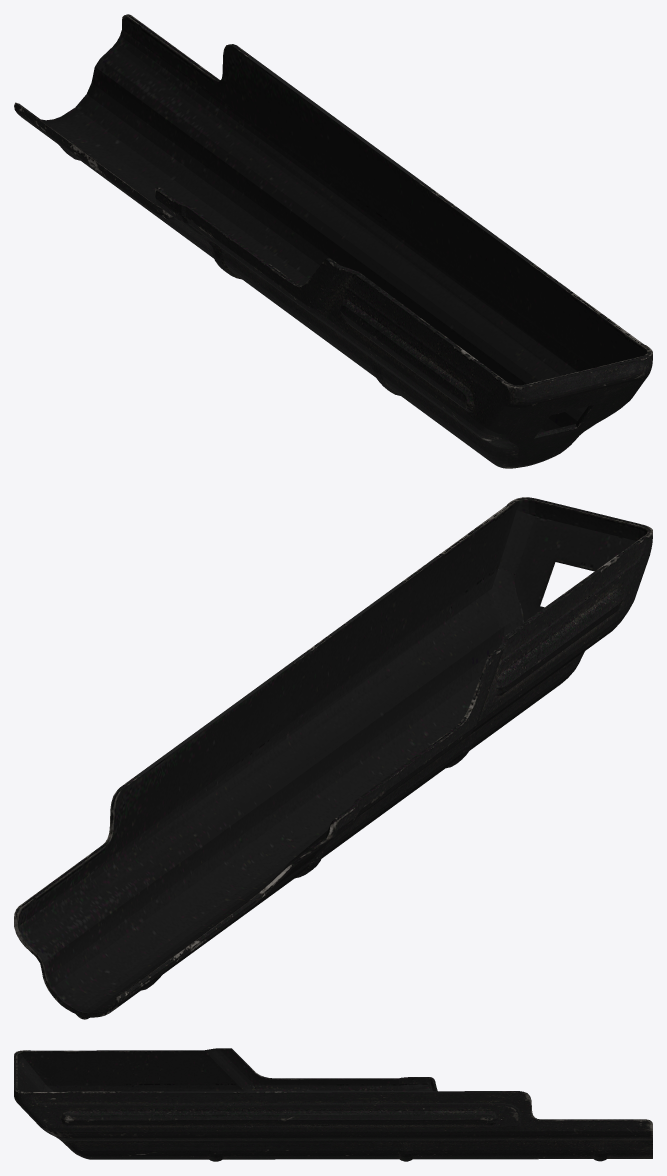
3 renders of one model, top to bottom at view 1: azimuth 30°, elevation 25°; view 2: azimuth 150°, elevation 25°; view 3: azimuth 270°, elevation 25°, orthographic. The views are drawn at different scales.
Visible parts, largest first — view 1: TW_59e6449086f7746c9f75e822_PZ_Import; view 2: TW_59e6449086f7746c9f75e822_PZ_Import; view 3: TW_59e6449086f7746c9f75e822_PZ_Import.
Part boxes in pixels (x1,y1,x2,y2): TW_59e6449086f7746c9f75e822_PZ_Import: [14, 14, 652, 468]; TW_59e6449086f7746c9f75e822_PZ_Import: [14, 497, 652, 1019]; TW_59e6449086f7746c9f75e822_PZ_Import: [14, 1048, 652, 1161].
Size of the model in its own units: 0.0238 by 0.1356 by 0.0206.
Materials: 1 (1 with a texture image).
